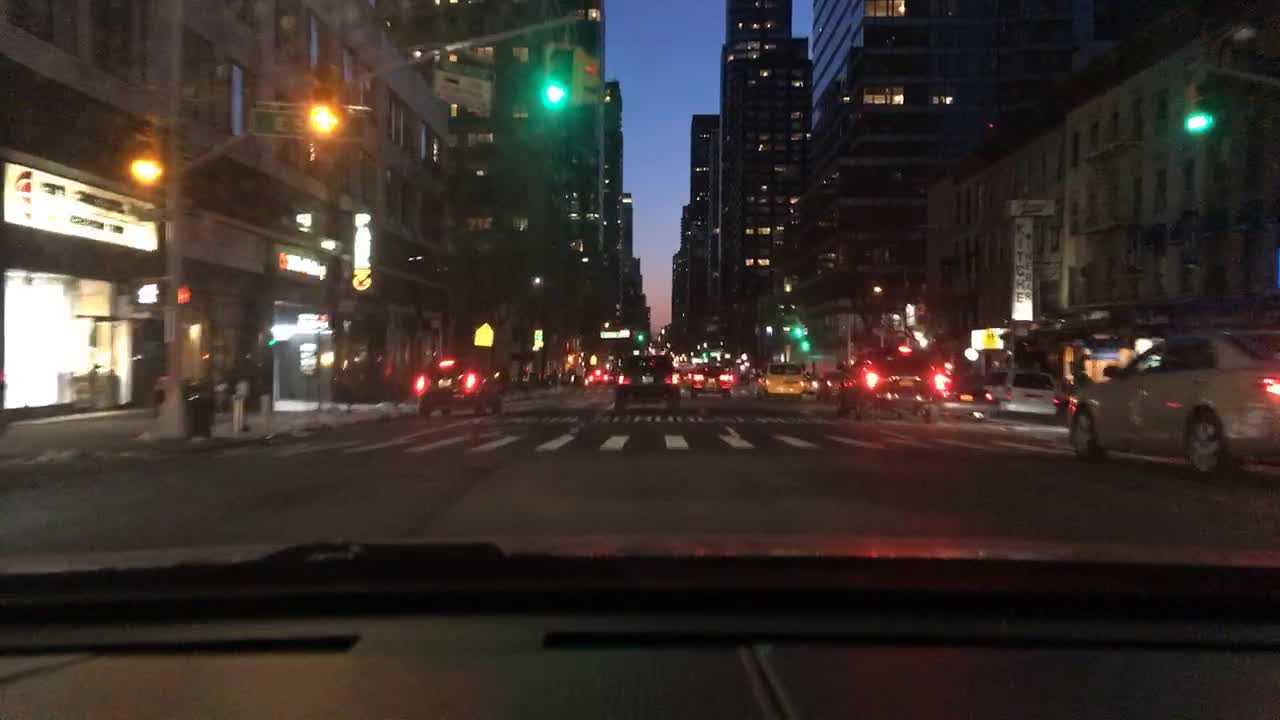car: (1069, 328, 1278, 471), (834, 340, 941, 417), (415, 350, 503, 414), (613, 353, 680, 415), (931, 361, 999, 421), (982, 365, 1060, 417), (755, 359, 809, 396), (687, 358, 735, 398), (816, 370, 853, 404), (676, 359, 694, 387), (801, 370, 822, 393), (585, 365, 611, 383)
traffic light: (311, 62, 340, 137), (132, 117, 162, 183), (541, 47, 570, 105), (575, 50, 600, 106), (1186, 82, 1209, 131), (131, 280, 161, 307), (174, 281, 193, 307), (599, 329, 624, 338), (633, 329, 646, 344), (790, 323, 802, 339), (796, 339, 809, 353)
traffic sign: (252, 106, 362, 137), (429, 59, 492, 111), (134, 206, 171, 222), (471, 323, 493, 348), (980, 324, 999, 348)
